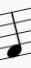note: (6, 10, 23, 59)
